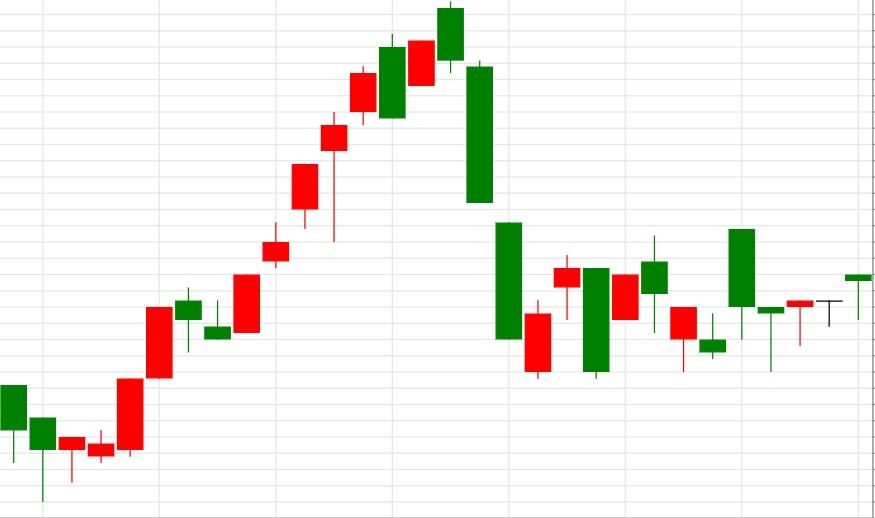three_black_crows_fall: (29, 0, 523, 504)
